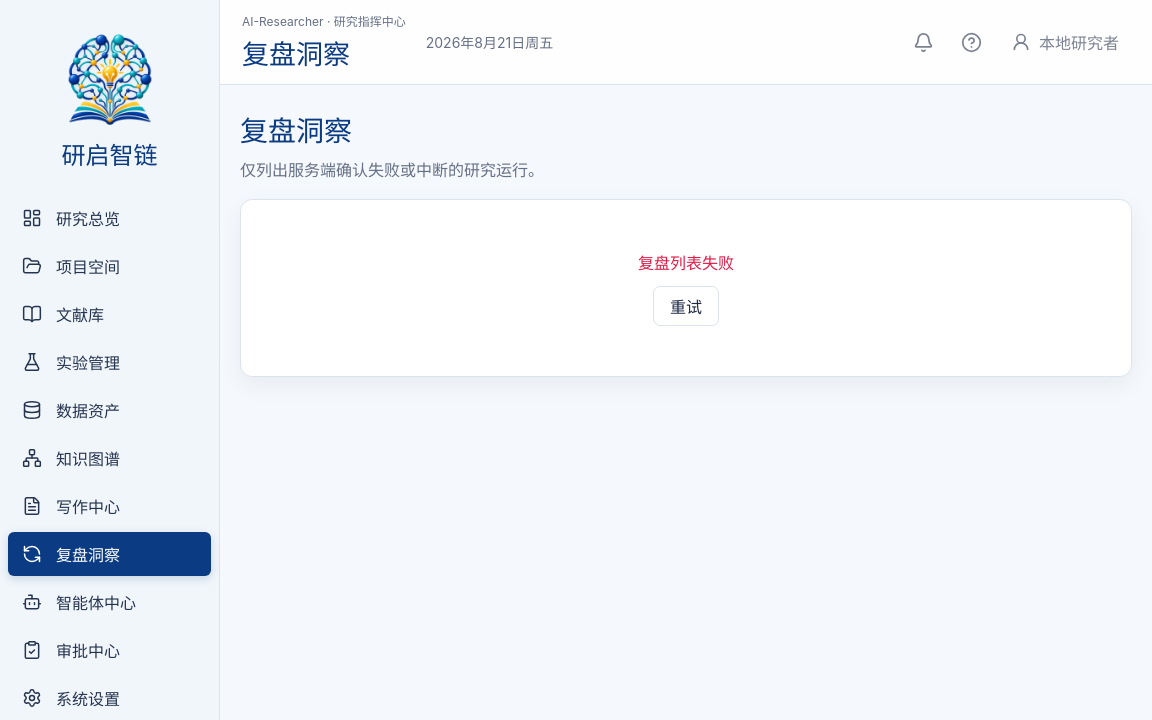
Test: shows list loading, error retry, and an honest empty review state
Expected: the message shows "复盘列表失败", [638,253,734,273]
Click the button "重试".
click(686, 306)  # box [653,286,719,326]
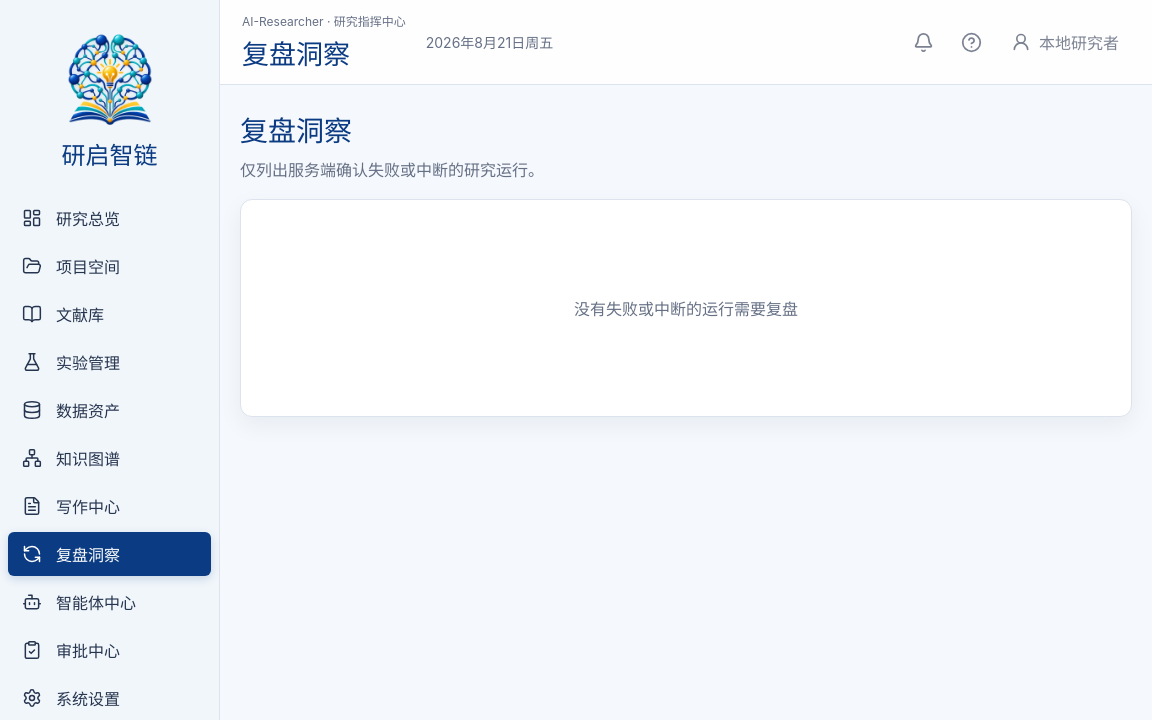
Expected: the text "没有失败或中断的运行需要复盘" is shown, [574,296,798,320]
